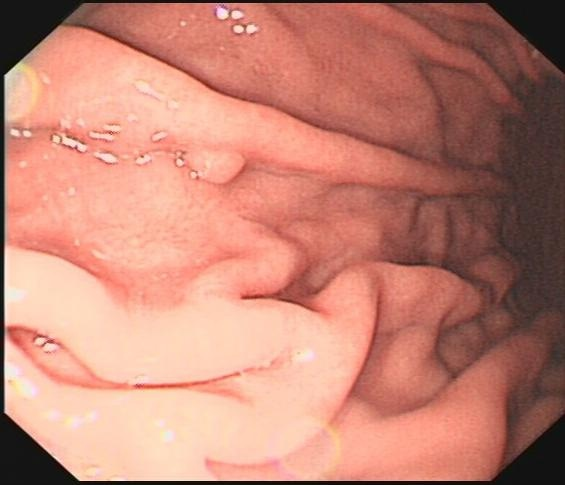Polyp: (186, 145, 254, 200)
